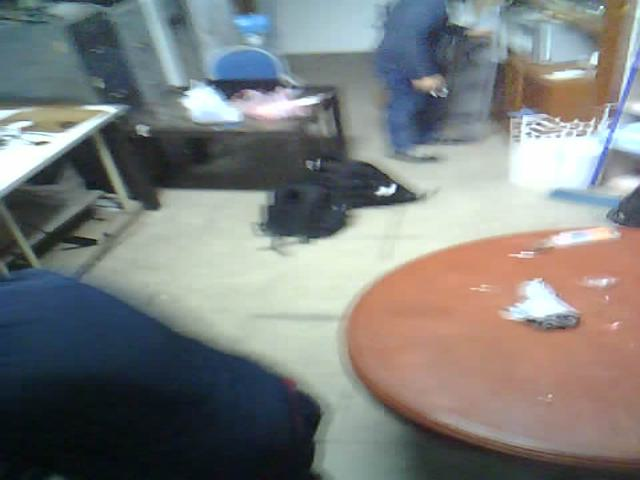person: (0, 255, 355, 477), (366, 0, 470, 167)
